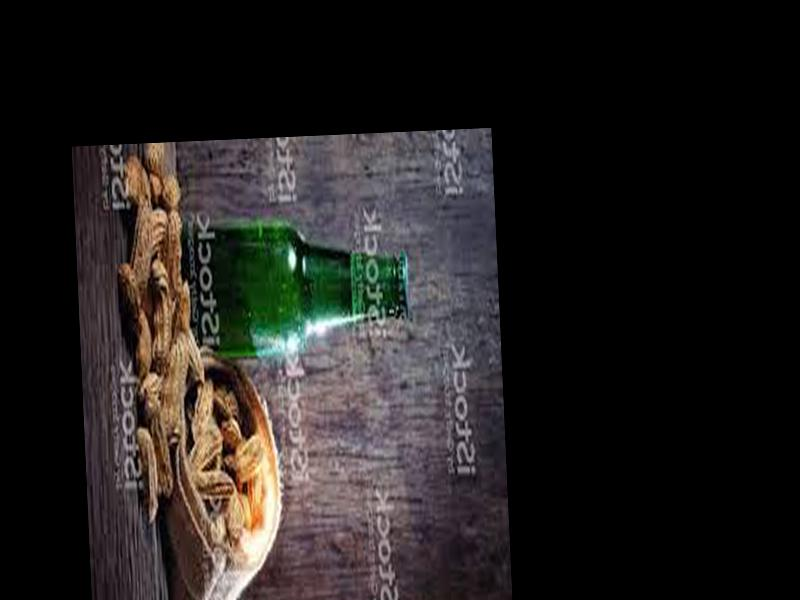Beer: (163, 217, 413, 365)
